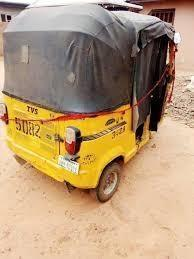keke: (0, 2, 183, 203)
